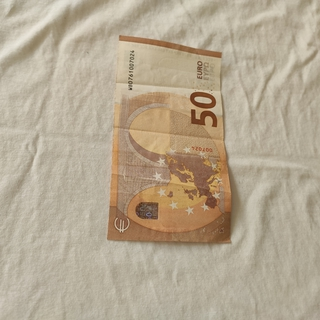50EUROBack: (105, 34, 232, 244)
